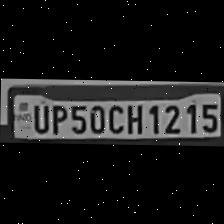0: (86, 102, 106, 133)
1: (180, 100, 198, 132), (144, 102, 160, 134)
2: (160, 100, 182, 134)
5: (66, 101, 88, 134), (197, 99, 219, 132)
C: (104, 102, 124, 134)
H: (123, 101, 145, 134)
P: (47, 102, 66, 134)
U: (28, 100, 48, 132)
